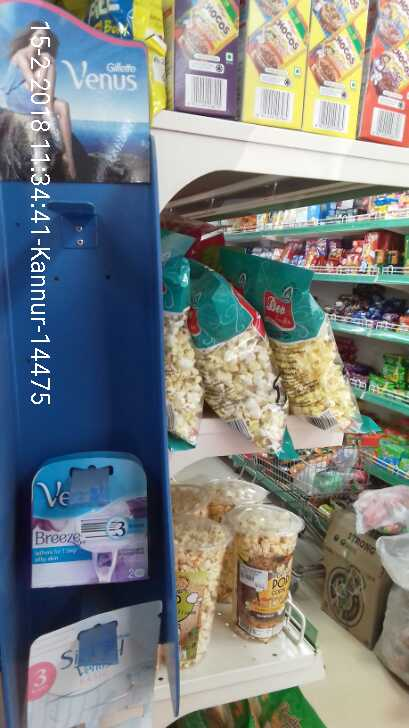venus: (17, 462, 152, 586)
